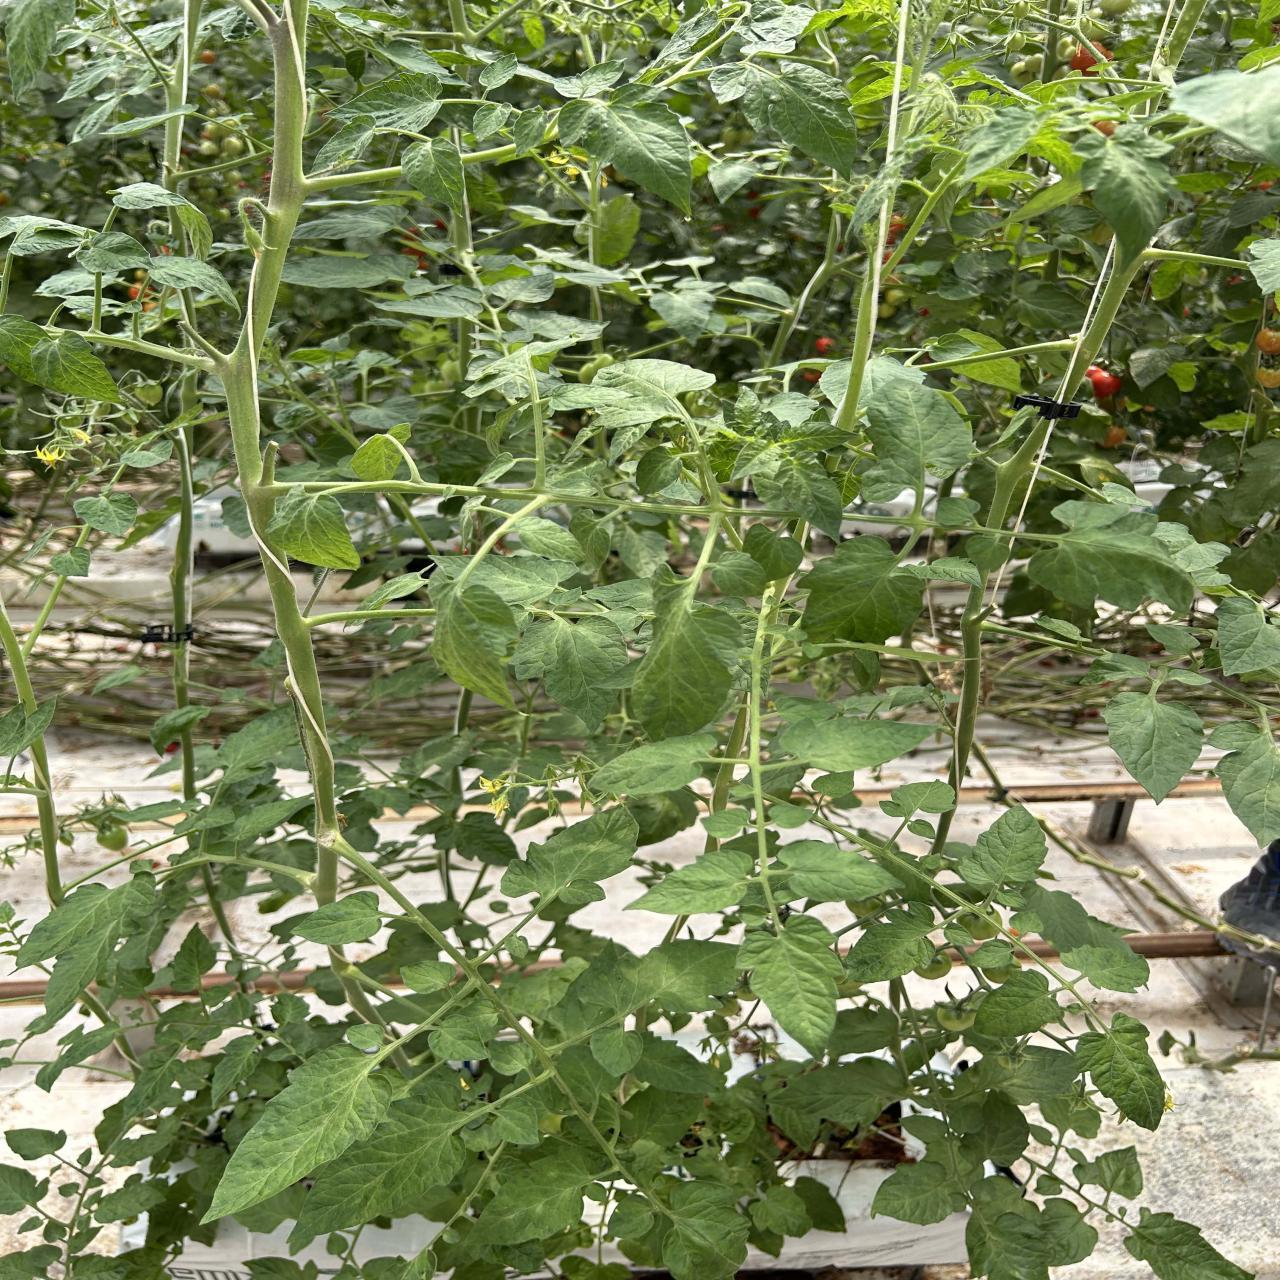Hoja: (196, 1044, 390, 1226), (300, 1081, 472, 1239), (707, 59, 857, 178), (632, 581, 743, 740), (559, 86, 693, 211), (501, 809, 638, 918), (738, 914, 843, 1054), (797, 536, 926, 645), (863, 381, 974, 504), (513, 617, 631, 730), (471, 1146, 598, 1242), (430, 572, 518, 709), (1102, 692, 1204, 802), (655, 1179, 750, 1280), (767, 1058, 905, 1126), (776, 716, 934, 772), (1211, 722, 1280, 847), (628, 846, 754, 913), (776, 838, 900, 903), (628, 851, 754, 914), (588, 734, 715, 796), (267, 488, 360, 570), (956, 806, 1047, 886), (849, 901, 934, 981), (871, 1159, 968, 1224), (974, 971, 1063, 1037), (402, 137, 465, 219), (288, 892, 381, 945), (211, 1035, 261, 1110), (350, 423, 410, 481), (880, 781, 954, 821), (590, 1023, 644, 1076), (709, 550, 765, 597), (636, 444, 682, 495), (610, 1194, 654, 1239), (810, 771, 863, 809), (512, 107, 550, 157), (400, 961, 455, 993), (472, 102, 513, 142), (701, 806, 749, 840), (488, 1040, 533, 1075), (935, 496, 979, 526), (343, 1023, 386, 1053), (968, 940, 1012, 968), (768, 802, 811, 829), (944, 924, 972, 945), (907, 819, 934, 839)
Pedunculo: (190, 0, 320, 717), (264, 558, 335, 838), (359, 859, 485, 988), (546, 1062, 656, 1203), (1057, 232, 1149, 401), (741, 586, 781, 934), (479, 490, 801, 519), (837, 239, 883, 430), (376, 982, 479, 1063), (472, 966, 552, 1069), (948, 585, 981, 806), (988, 418, 1054, 527), (170, 428, 193, 708), (29, 733, 62, 906), (316, 829, 399, 898), (268, 479, 491, 501), (468, 1069, 552, 1121), (0, 600, 34, 713), (301, 606, 434, 627), (400, 905, 458, 949), (907, 475, 926, 547), (931, 809, 955, 853), (842, 513, 911, 529), (179, 730, 195, 797), (318, 853, 336, 900)
